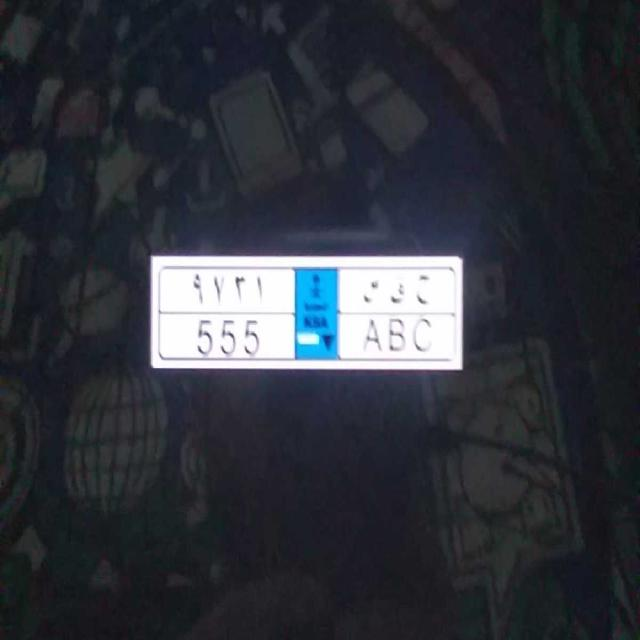license_plate: (156, 314, 458, 363)
